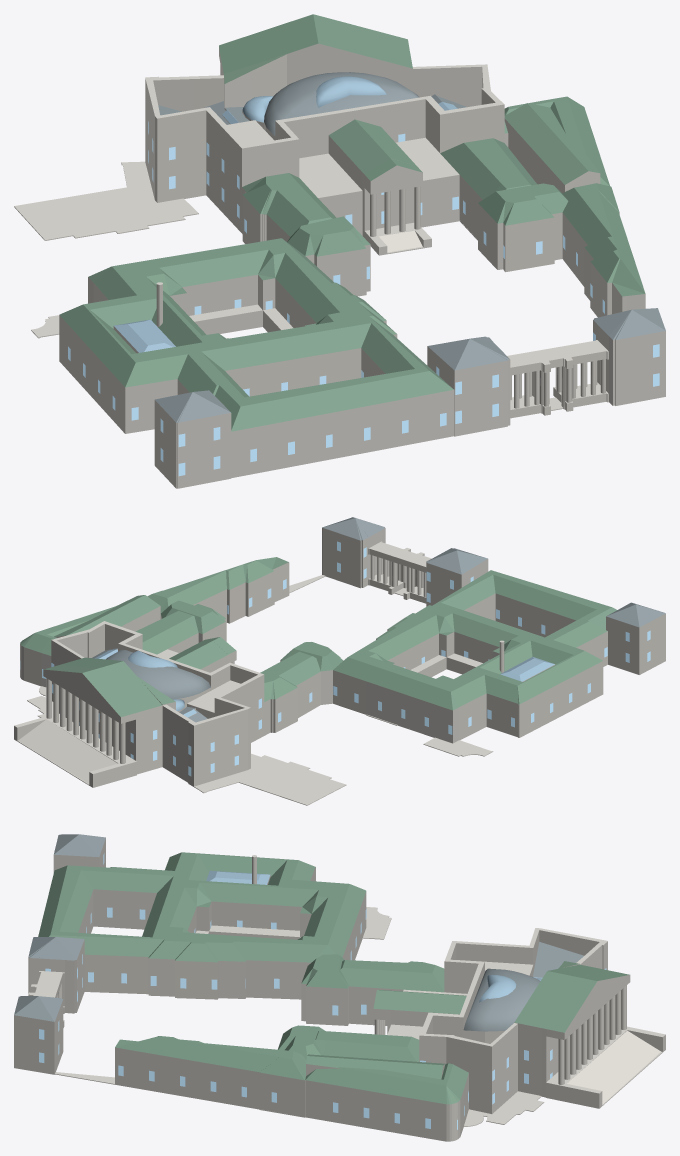
Rendered from detail.glb.
3 views of the same model, one above another, from view 1: azimuth 30°, elevation 25°; view 2: azimuth 150°, elevation 25°; view 3: azimuth 270°, elevation 25° (orthographic). The views are drawn at different scales.
Parts seen in each view (by area): view 1: stone, metal, roof, window, recess; view 2: stone, metal, roof, window, recess; view 3: stone, metal, roof, window, recess.
Part boxes in pixels (x1=…): stone: x1=14, y1=43, x2=665, y2=488; metal: x1=59, y1=14, x2=645, y2=431; roof: x1=155, y1=72, x2=665, y2=422; window: x1=68, y1=121, x2=659, y2=476; recess: x1=114, y1=76, x2=456, y2=352; stone: x1=14, y1=527, x2=665, y2=805; metal: x1=20, y1=557, x2=616, y2=716; roof: x1=91, y1=517, x2=665, y2=722; window: x1=20, y1=541, x2=650, y2=776; recess: x1=95, y1=649, x2=554, y2=717; stone: x1=14, y1=838, x2=665, y2=1141; metal: x1=38, y1=852, x2=629, y2=1104; roof: x1=14, y1=834, x2=583, y2=1031; window: x1=39, y1=853, x2=606, y2=1129; recess: x1=206, y1=870, x2=542, y2=1002.
Size of the model in its own units: 164 by 27.4 by 177.
